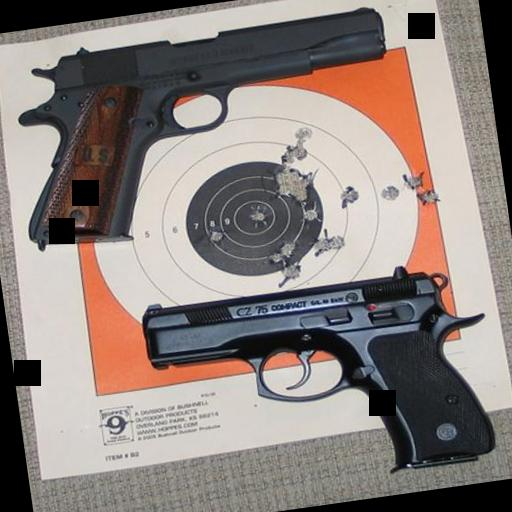Handgun: (0, 0, 408, 251), (140, 257, 500, 506)
